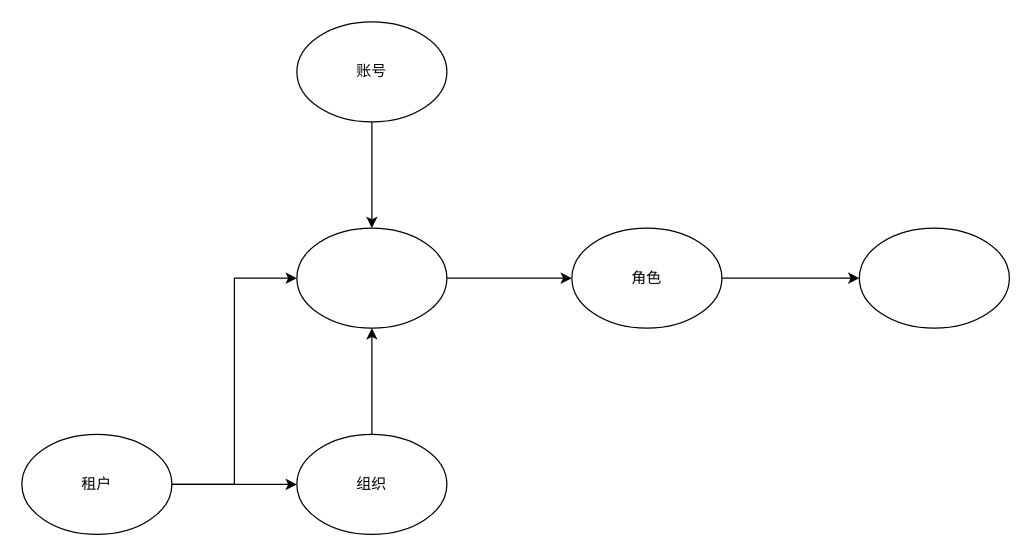
The diagram is 1031 pixels wide and 556 high, and some of its shapes have lost their labels. The shapes that lost their labels are listed below. From the top down, each one's box as (x1, y1, x2, y2) in pixels, then its label:
(296, 227, 447, 328): 用户
(858, 227, 1009, 328): 菜单
